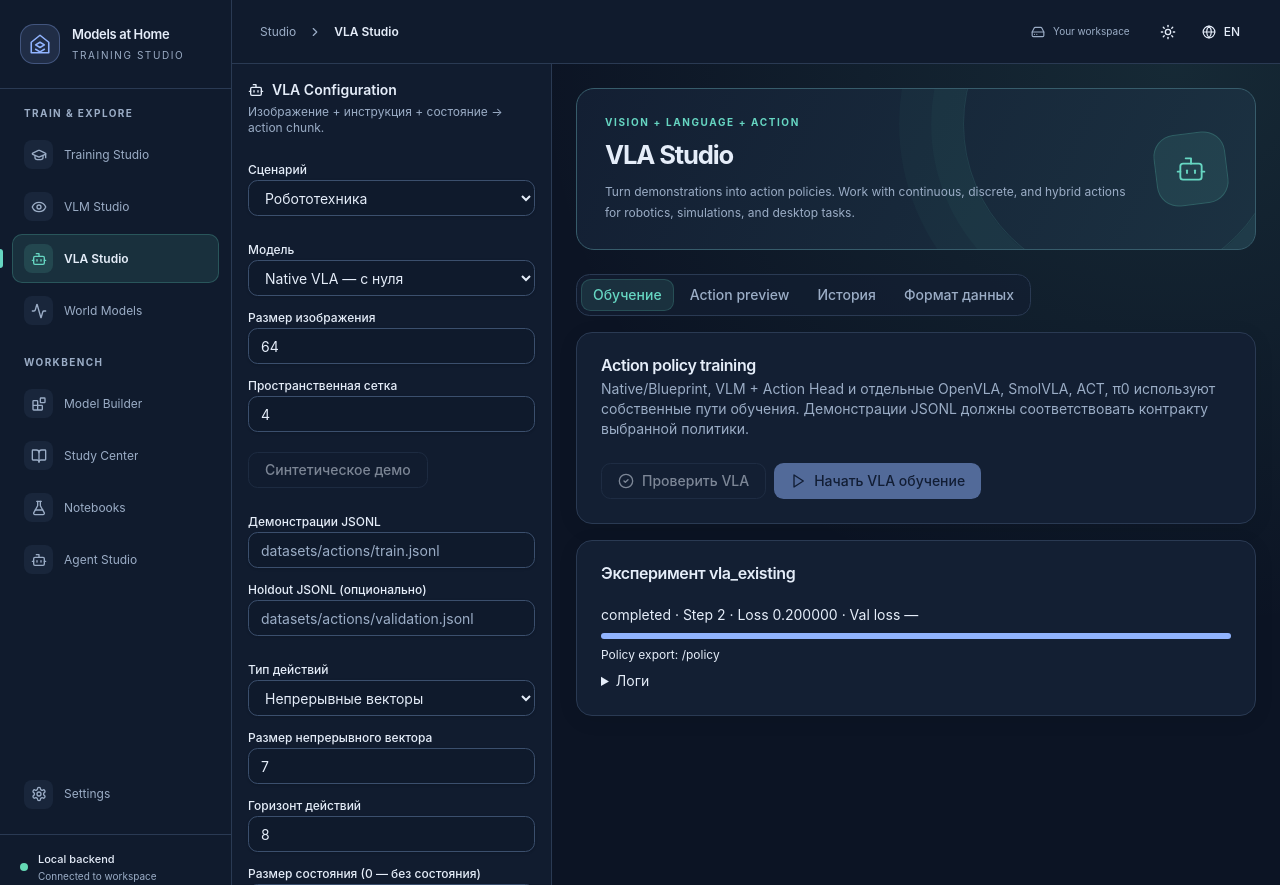
page smoke tests › keeps a discovered VLA experiment visible after completion and gates its export
The image size is (1280, 885).
Expected: the text "Policy export: /policy" is shown, [601,647,720,662]
Expected: the heading "Эксперимент vla_existing" is shown, [601,563,795,583]
Click the tab "Action preview": x=739, y=295 [678,279,801,311]
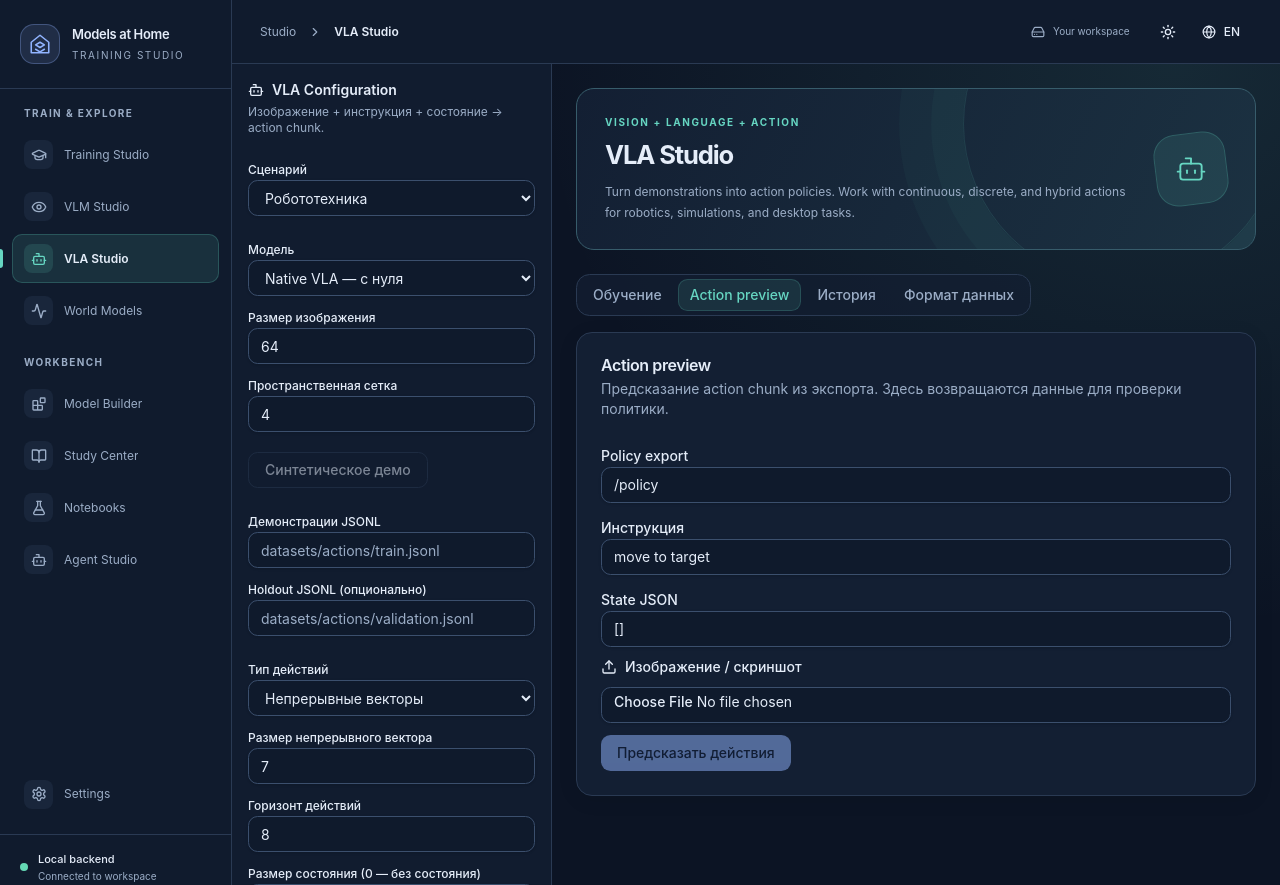
Expected: the field labelled "State JSON" holds "[]", [601,611,1231,647]
